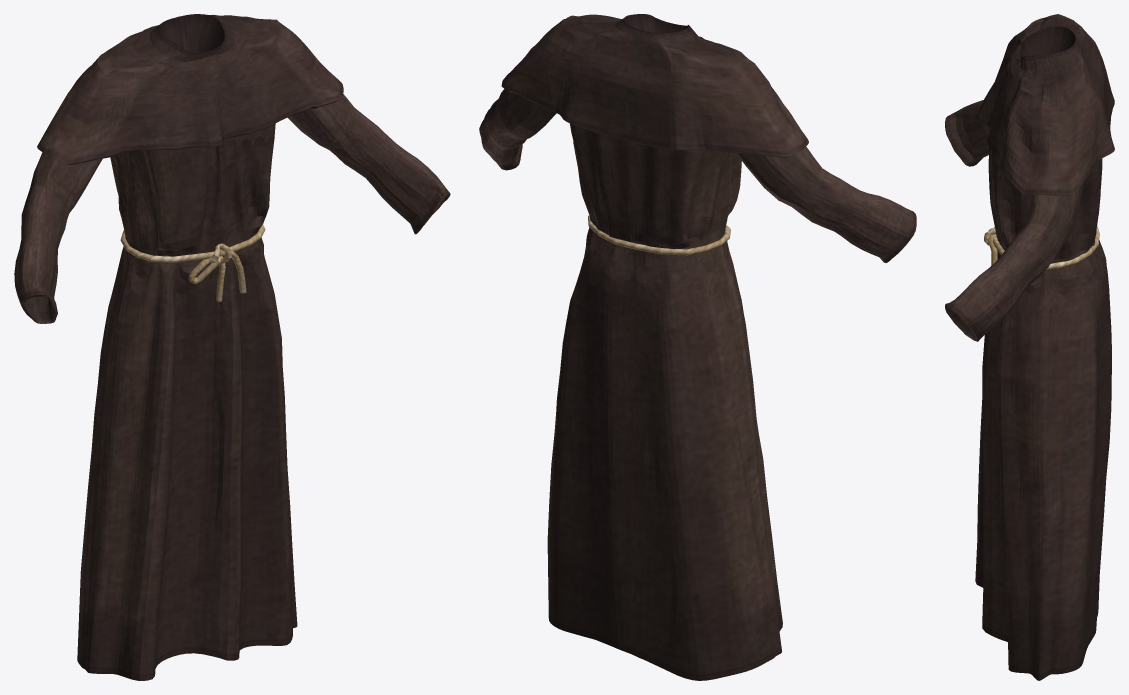
File: mhw_donitz_monk_robe.glb
3 renders of one model, left to right at view 1: azimuth 30°, elevation 25°; view 2: azimuth 150°, elevation 25°; view 3: azimuth 270°, elevation 25°, orthographic. The views are drawn at different scales.
Visible parts, largest first — view 1: mhw_donitz_monk_robe; view 2: mhw_donitz_monk_robe; view 3: mhw_donitz_monk_robe.
Boxes of the visible parts, left/top/right/bottom form: mhw_donitz_monk_robe: left=14, top=14, right=450, bottom=680; mhw_donitz_monk_robe: left=479, top=14, right=916, bottom=680; mhw_donitz_monk_robe: left=945, top=14, right=1114, bottom=680.
Size of the model in its own units: 1.11 by 1.55 by 0.3995.
1 material, 1 textured.
